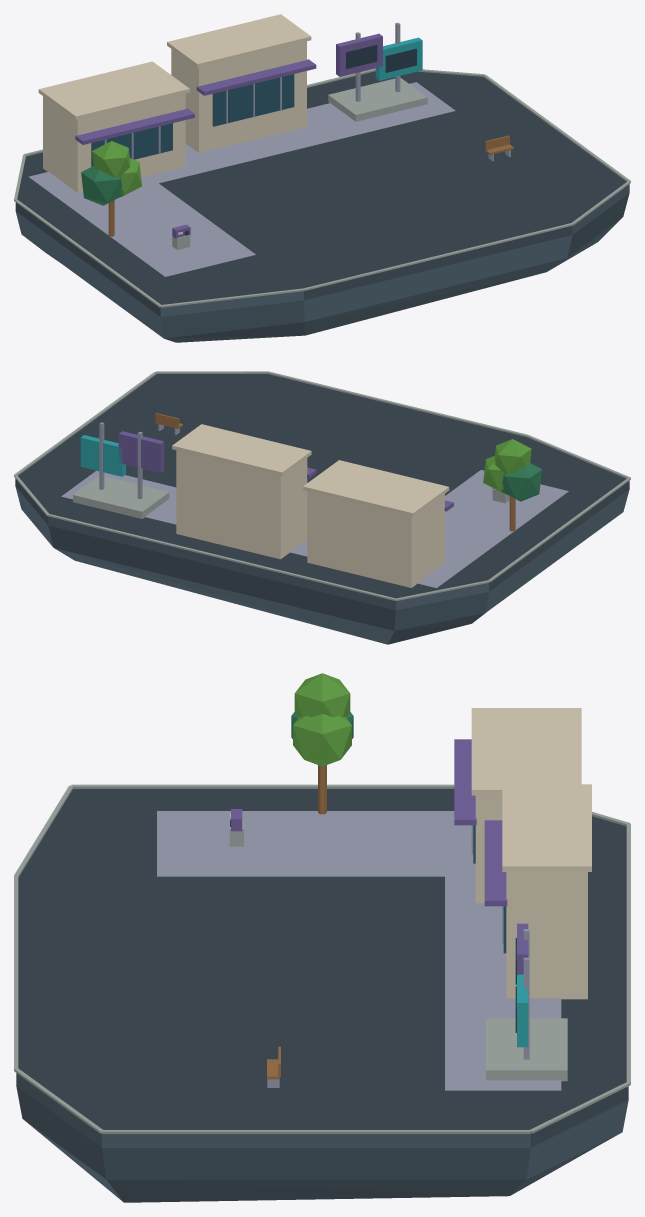
The model's file is fi05-neon-promenade.glb.
3 views of the same model, one above another, from view 1: azimuth 30°, elevation 25°; view 2: azimuth 150°, elevation 25°; view 3: azimuth 270°, elevation 25° (orthographic). The views are drawn at different scales.
Parts seen in each view (by area): view 1: GEO_foundation, GEO_forecourt, LAND_1_shop, LAND_0_shop, LAND_2_signs, GEO_rim, LAND_3_tree, PROP_bench; view 2: GEO_foundation, LAND_1_shop, LAND_0_shop, GEO_forecourt, LAND_2_signs, GEO_rim, LAND_3_tree; view 3: GEO_foundation, GEO_forecourt, LAND_1_shop, LAND_0_shop, GEO_rim, LAND_2_signs, LAND_3_tree.
Part boxes in pixels (x1,y1,x2,y2): GEO_foundation: (15,71,629,342); GEO_forecourt: (28,82,455,276); LAND_1_shop: (167,14,316,153); LAND_0_shop: (38,61,194,192); LAND_2_signs: (328,22,427,121); GEO_rim: (14,68,630,307); LAND_3_tree: (81,141,141,237); PROP_bench: (485,135,513,161); GEO_foundation: (15,374,629,644); LAND_1_shop: (172,424,316,559); LAND_0_shop: (303,460,453,587); GEO_forecourt: (61,470,568,587); LAND_2_signs: (73,422,169,518); GEO_rim: (14,371,630,600); LAND_3_tree: (483,439,541,531); GEO_foundation: (16,789,628,1202); GEO_forecourt: (157,811,561,1090); LAND_1_shop: (484,784,591,999); LAND_0_shop: (454,708,581,903); GEO_rim: (14,784,630,1133); LAND_2_signs: (486,923,567,1081); LAND_3_tree: (291,673,353,814).
Bounding box in the file's own units: 40.22 × 12.3 × 30.22.
